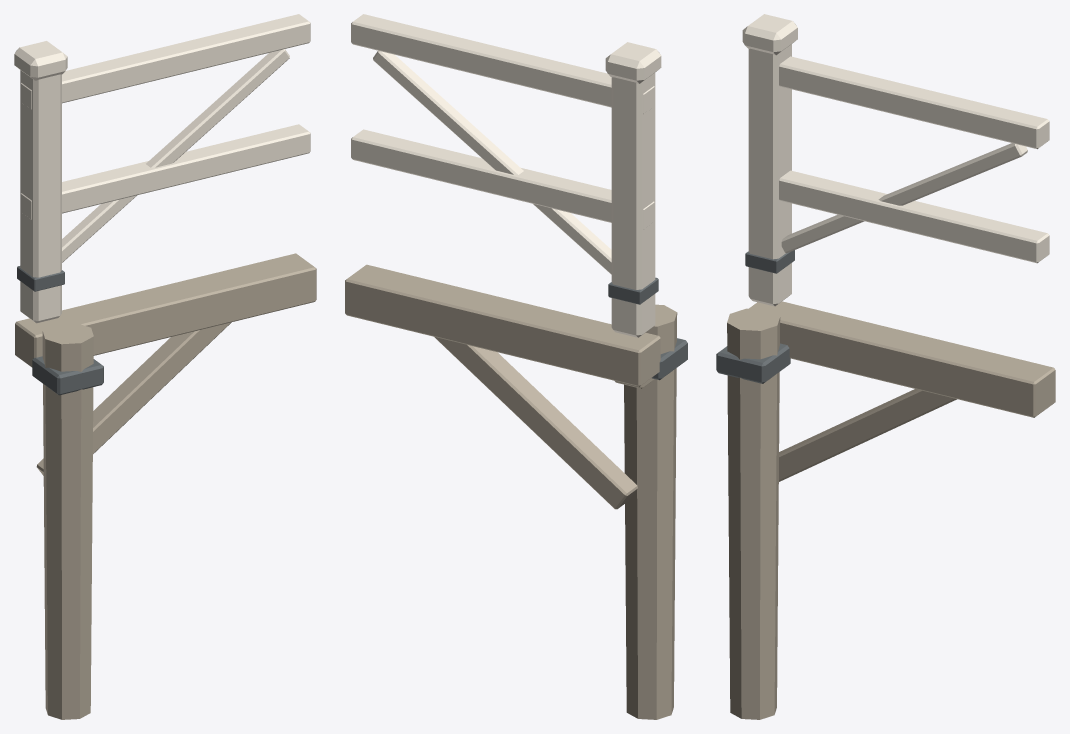
The model's file is wood_edge_right.glb.
The picture shows the model from 3 angles, left to right: view 1: azimuth 30°, elevation 25°; view 2: azimuth 150°, elevation 25°; view 3: azimuth 330°, elevation 25°; orthographic projection. The views are drawn at different scales.
Visible parts, largest first — view 1: wood_edge_right; view 2: wood_edge_right; view 3: wood_edge_right.
Boxes of the visible parts, <box> form: wood_edge_right: <box>14,14,316,719</box>; wood_edge_right: <box>345,14,687,719</box>; wood_edge_right: <box>716,14,1055,719</box>.
Bounding box in the file's own units: 1.03 × 2.23 × 0.2875.
